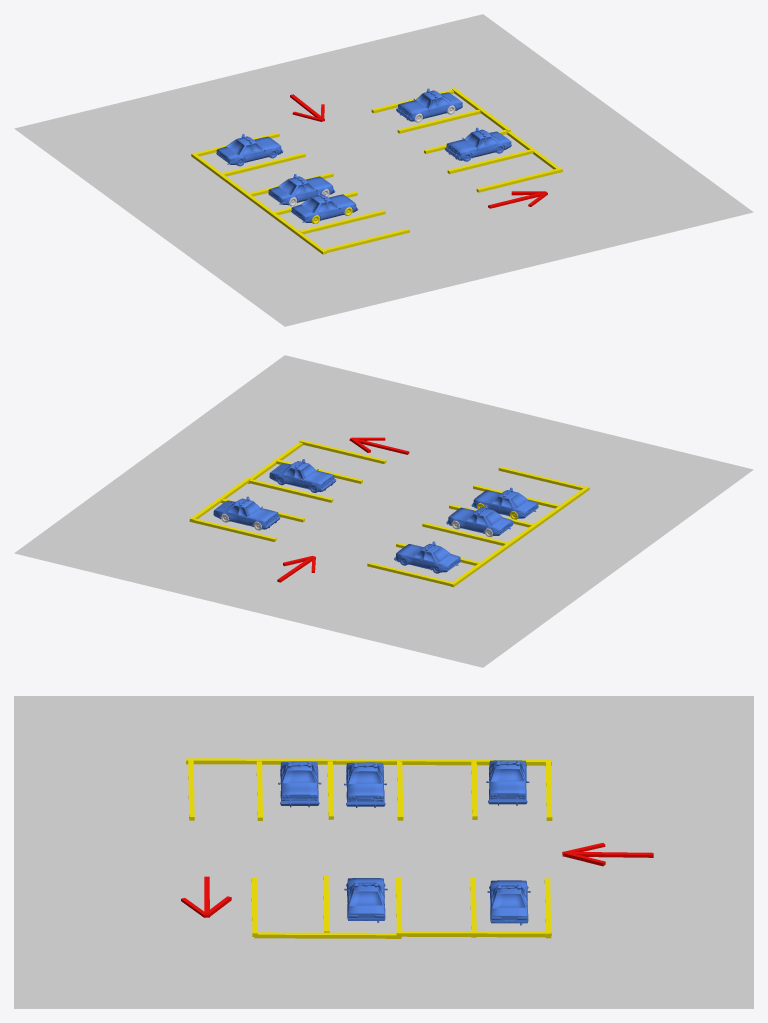
File: parking_space.dae
3 views of the same model, one above another, from view 1: azimuth 30°, elevation 25°; view 2: azimuth 150°, elevation 25°; view 3: azimuth 270°, elevation 25° (orthographic). The views are drawn at different scales.
Parts seen in each view (by area): view 1: Plane.001, car9.002, car9.003, car9, car9.004, car9.001, Cube.012; view 2: Plane.001, car9.002, car9.003, car9.004, car9.001, car9, Cube.012; view 3: Plane.001, Cube.012, car9, car9.001, car9.004, car9.002, car9.003, Cube.013, Cube.014.
Part boxes in pixels (x1,y1,x2,y2): Plane.001: (14,14,753,326); car9.002: (396,88,462,121); car9.003: (445,127,511,160); car9: (291,192,358,222); car9.004: (216,134,283,165); car9.001: (268,174,335,205); Cube.012: (191,153,326,254); Plane.001: (14,355,753,667); car9.002: (213,496,280,529); car9.003: (269,459,336,491); car9.004: (394,541,460,572); car9.001: (446,505,513,535); car9: (471,487,538,518); Cube.012: (450,486,589,587); Plane.001: (14,696,753,1008); Cube.012: (186,758,551,765); car9: (278,761,321,807); car9.001: (344,762,386,807); car9.004: (486,760,529,805); car9.002: (487,880,530,925); car9.003: (344,878,387,922); Cube.013: (254,932,401,938); Cube.014: (396,931,551,937).
Size of the model in its own units: 36.1 by 36.1 by 1.92.
